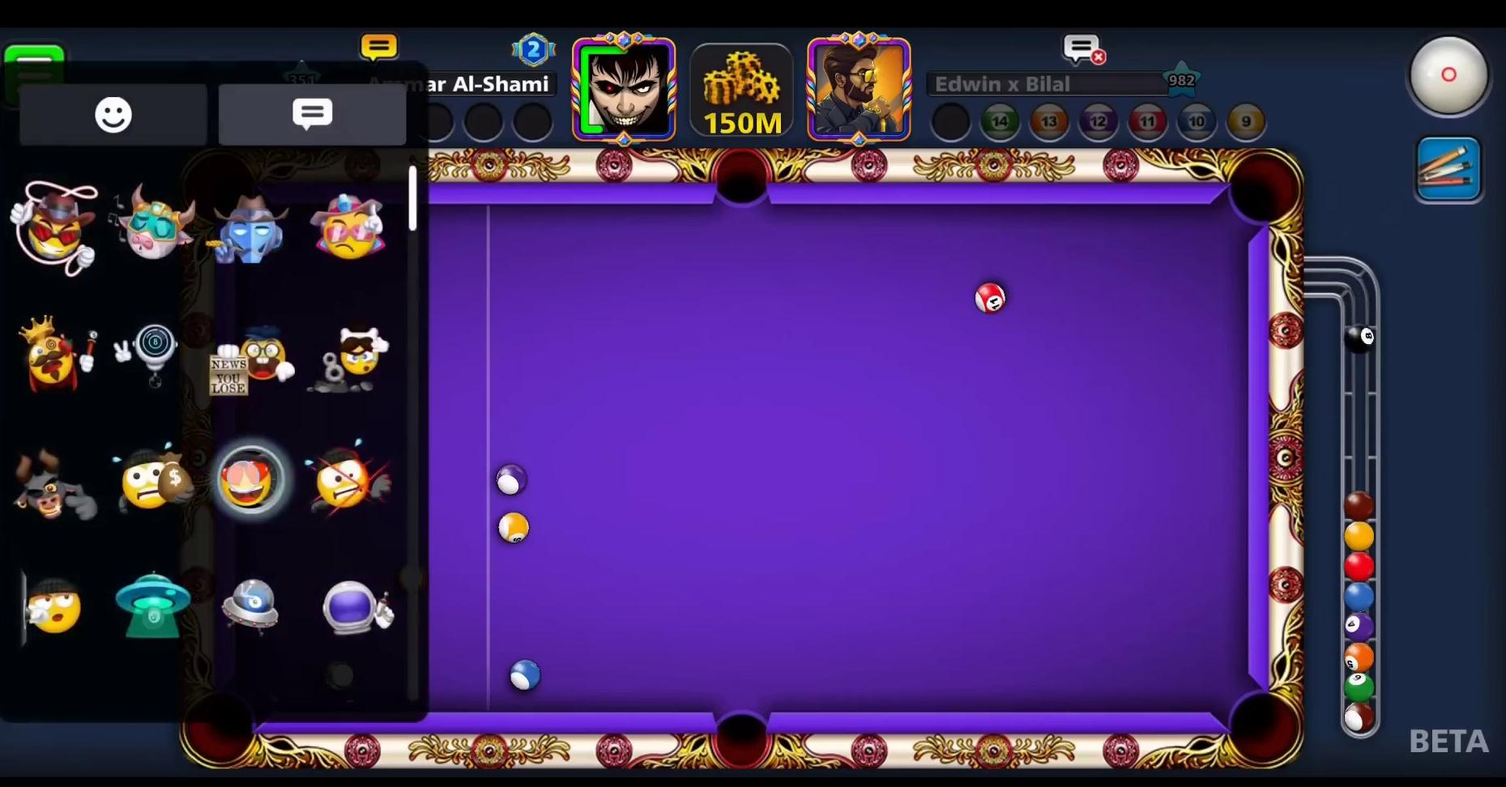Ball: (499, 653, 548, 698), (315, 657, 364, 691), (971, 277, 1009, 320), (490, 461, 531, 499), (493, 510, 533, 547)
Hole: (1210, 675, 1309, 776), (174, 686, 270, 774), (1217, 143, 1306, 233), (697, 690, 789, 775), (702, 143, 783, 219)
Play_Area: (439, 202, 1249, 714)
Spin: (1402, 28, 1504, 130)
